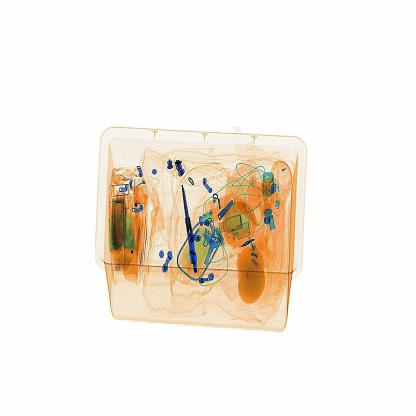gun: (177, 174, 202, 281)
